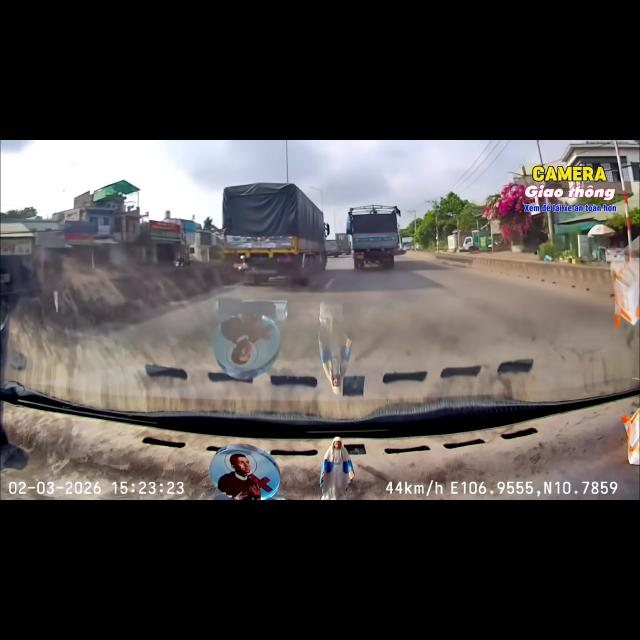truck: (223, 183, 329, 285), (347, 205, 400, 269), (335, 233, 350, 254), (326, 239, 340, 257)
